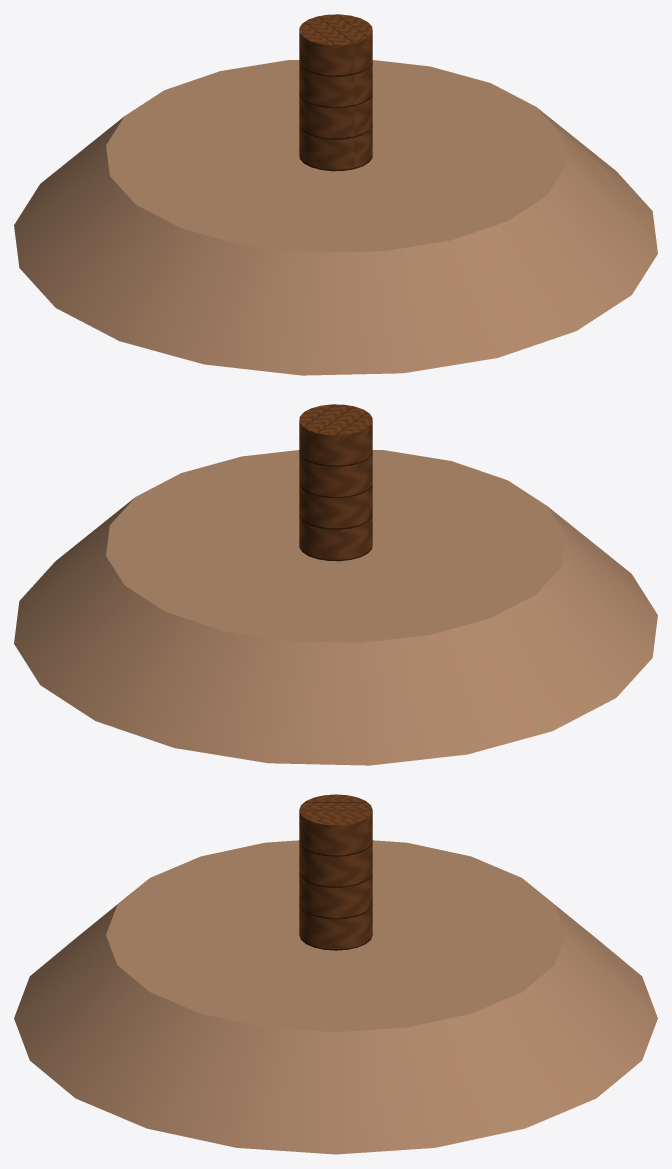
File: primitive-crafting-workshop-spindle-whorl-22bd1a8a__21551.glb
3 views of the same model, one above another, from view 1: azimuth 30°, elevation 25°; view 2: azimuth 150°, elevation 25°; view 3: azimuth 270°, elevation 25° (orthographic).
Parts seen in each view (by area): view 1: spindle-whorl; view 2: spindle-whorl; view 3: spindle-whorl.
Part boxes in pixels (left/top/right/bottom): spindle-whorl: left=14, top=14, right=657, bottom=375; spindle-whorl: left=14, top=404, right=657, bottom=765; spindle-whorl: left=14, top=794, right=657, bottom=1154.
Bounding box in the file's own units: 0.14 × 0.05 × 0.14.
Materials: 2 (1 with a texture image).
